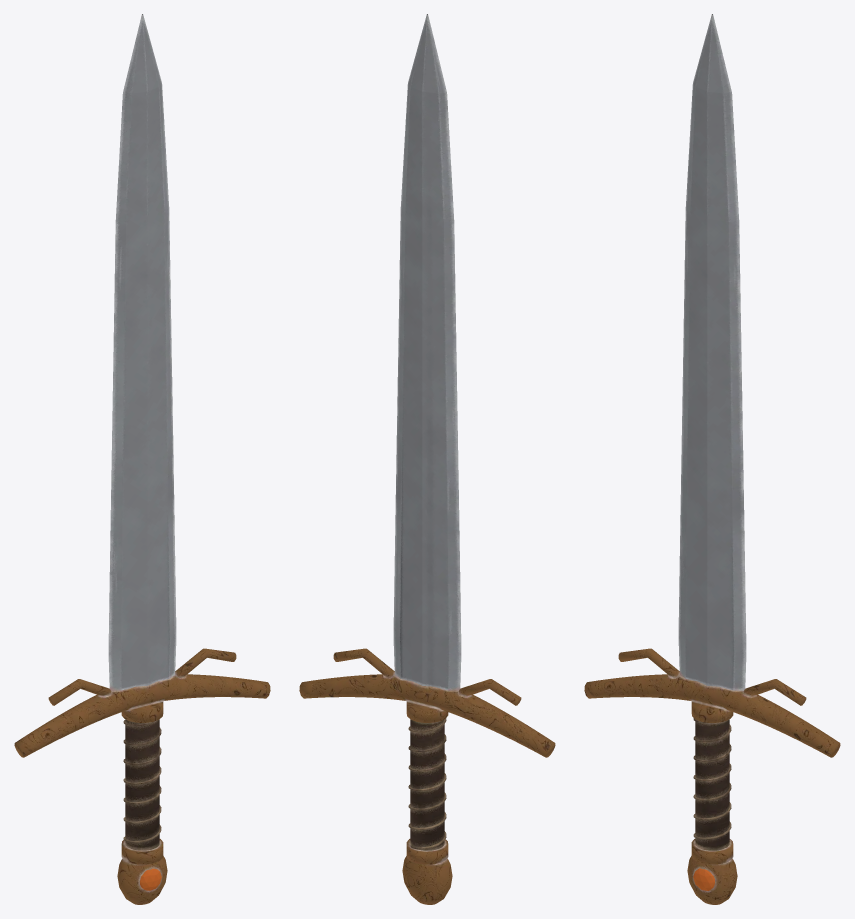
Rendered from eq_sword_3.glb.
3 views of the same model, side by side, from view 1: azimuth 30°, elevation 25°; view 2: azimuth 150°, elevation 25°; view 3: azimuth 330°, elevation 25° (orthographic).
Parts seen in each view (by area): view 1: eq_sword_3; view 2: eq_sword_3; view 3: eq_sword_3.
Boxes of the visible parts, x1,y1,x2,y2 form: eq_sword_3: (14,14,270,904); eq_sword_3: (299,14,555,904); eq_sword_3: (584,14,840,904).
Bounding box in the file's own units: 0.3997 × 1.35 × 0.059.
1 material, 1 textured.
